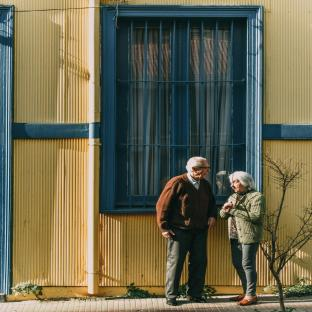Human: (156, 157, 217, 305), (218, 171, 266, 306)
